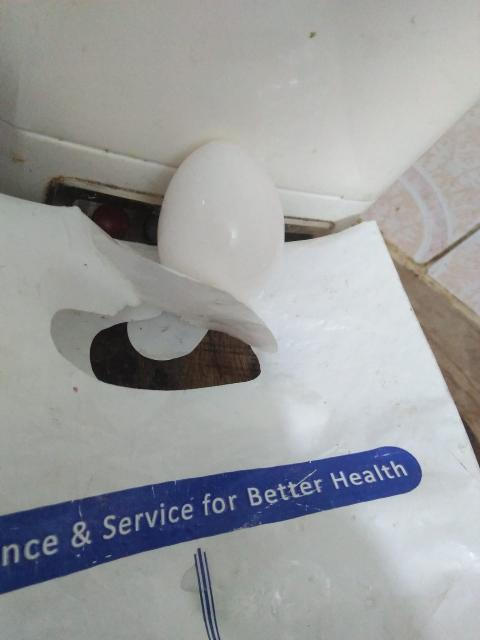Sano: (156, 138, 286, 305)
